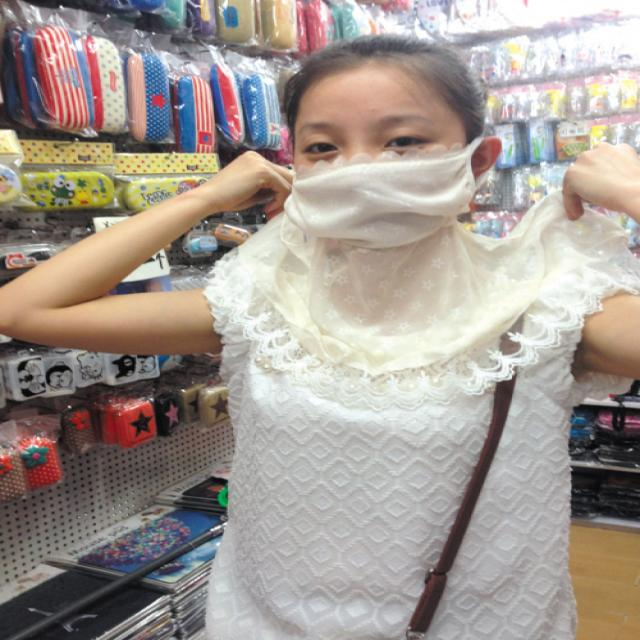mask: (289, 59, 464, 264)
